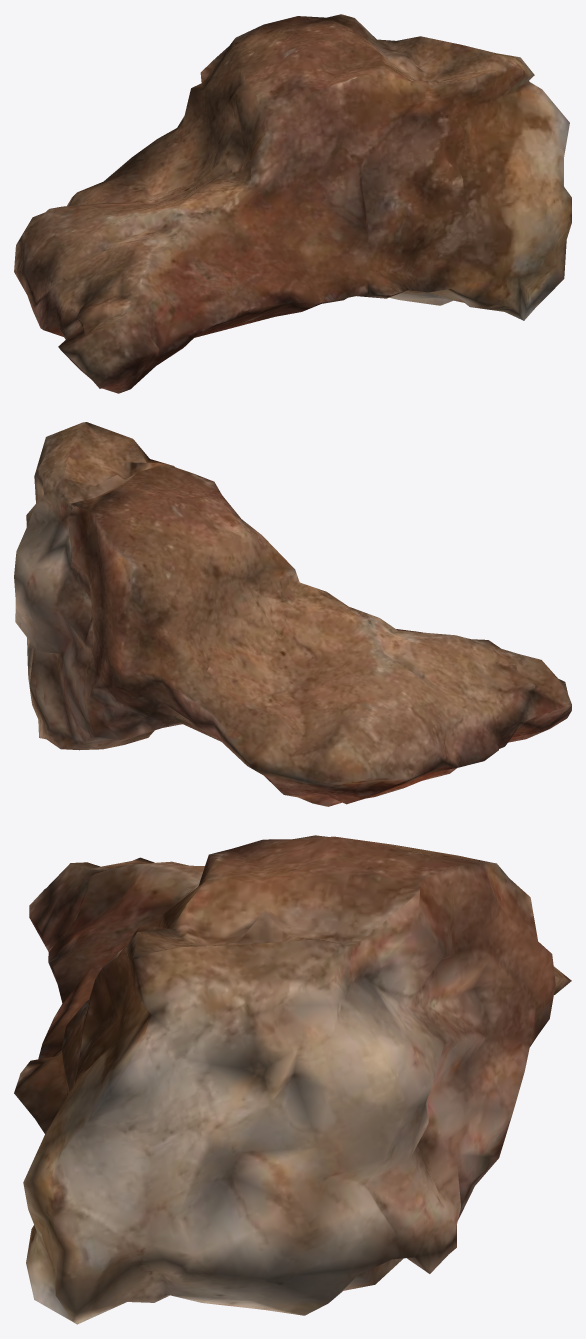
Rendered from stone_01.glb.
3 views of the same model, one above another, from view 1: azimuth 30°, elevation 25°; view 2: azimuth 150°, elevation 25°; view 3: azimuth 270°, elevation 25° (orthographic). The views are drawn at different scales.
Parts seen in each view (by area): view 1: stone_01; view 2: stone_01; view 3: stone_01.
Boxes of the visible parts, left/top/right/bottom form: stone_01: left=14, top=14, right=571, bottom=393; stone_01: left=14, top=422, right=571, bottom=806; stone_01: left=14, top=835, right=571, bottom=1324.
Size of the model in its own units: 0.1462 by 0.0704 by 0.0886.
Materials: 1 (1 with a texture image).
